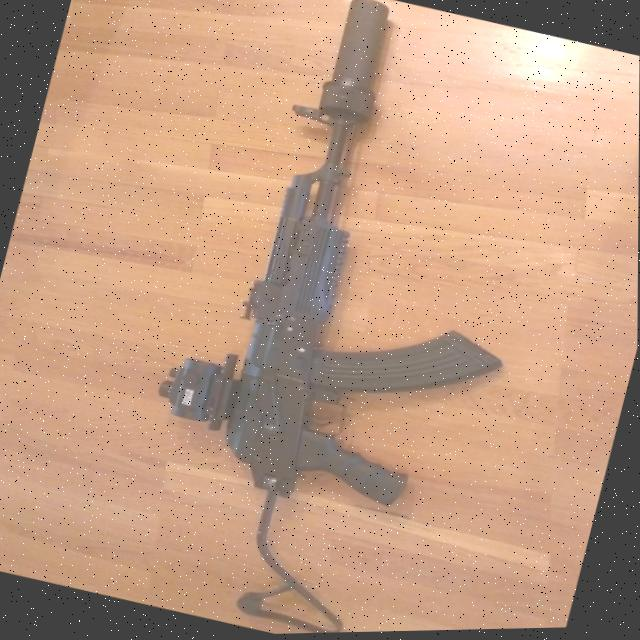firearm: (107, 0, 585, 638)
